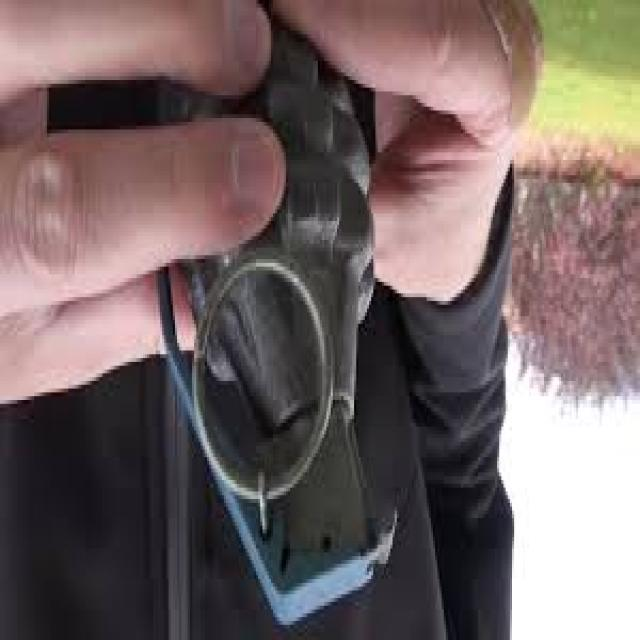grenade: (153, 2, 401, 632)
